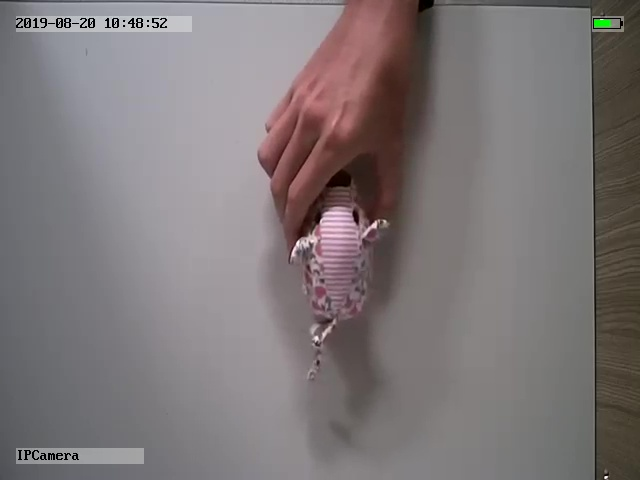pig: (286, 168, 391, 383)
